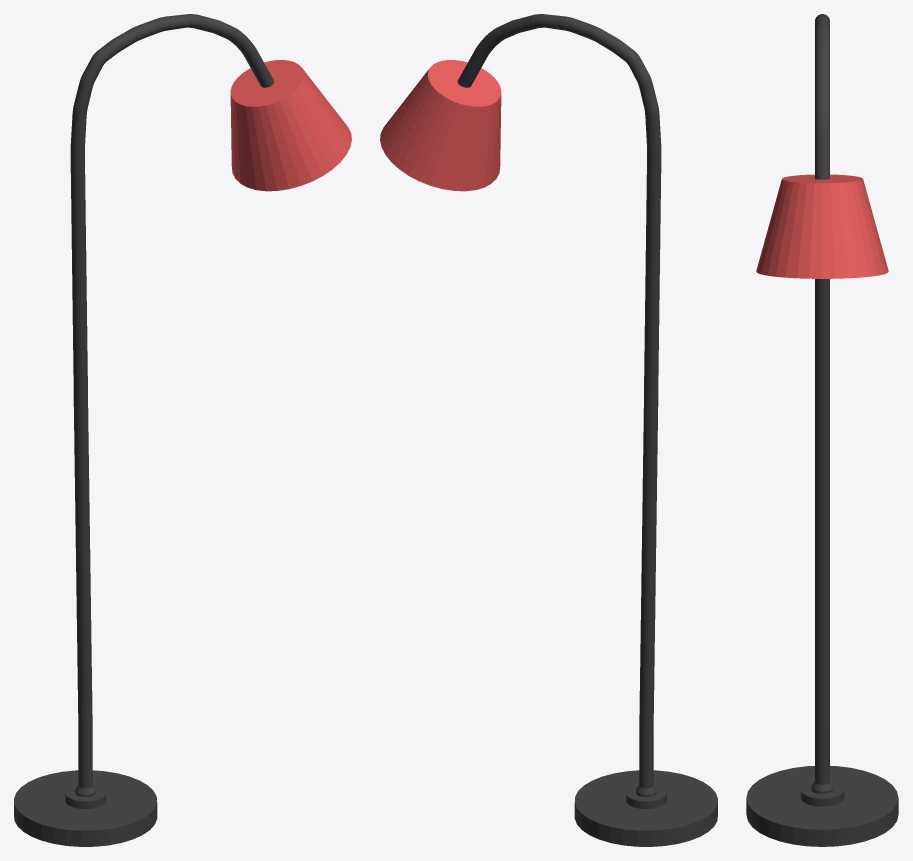
The model's file is Gulvlampe.fbx.
3 views of the same model, side by side, from view 1: azimuth 30°, elevation 25°; view 2: azimuth 150°, elevation 25°; view 3: azimuth 270°, elevation 25° (orthographic). The views are drawn at different scales.
Visible parts, largest first — view 1: Cylinder.003, Cylinder, Cylinder.004; view 2: Cylinder.003, Cylinder, Cylinder.004; view 3: Cylinder, Cylinder.003, Cylinder.004.
Boxes of the visible parts, x1,y1,x2,y2 form: Cylinder.003: (65,14,274,808); Cylinder: (230,60,351,191); Cylinder.004: (14,770,157,846); Cylinder.003: (457,14,666,808); Cylinder: (380,60,501,191); Cylinder.004: (574,770,717,846); Cylinder: (756,174,888,278); Cylinder.003: (800,14,844,806); Cylinder.004: (746,766,898,846).
Bounding box in the file's own units: 1029 × 2398 × 400.
